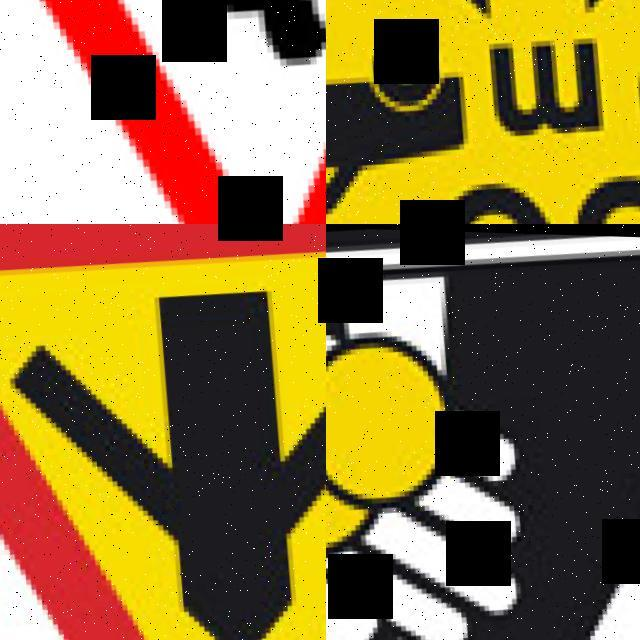12: (326, 224, 640, 640)
166: (0, 224, 326, 640)
50 meters between vehicles: (326, 0, 640, 224)
School: (0, 0, 326, 224)
